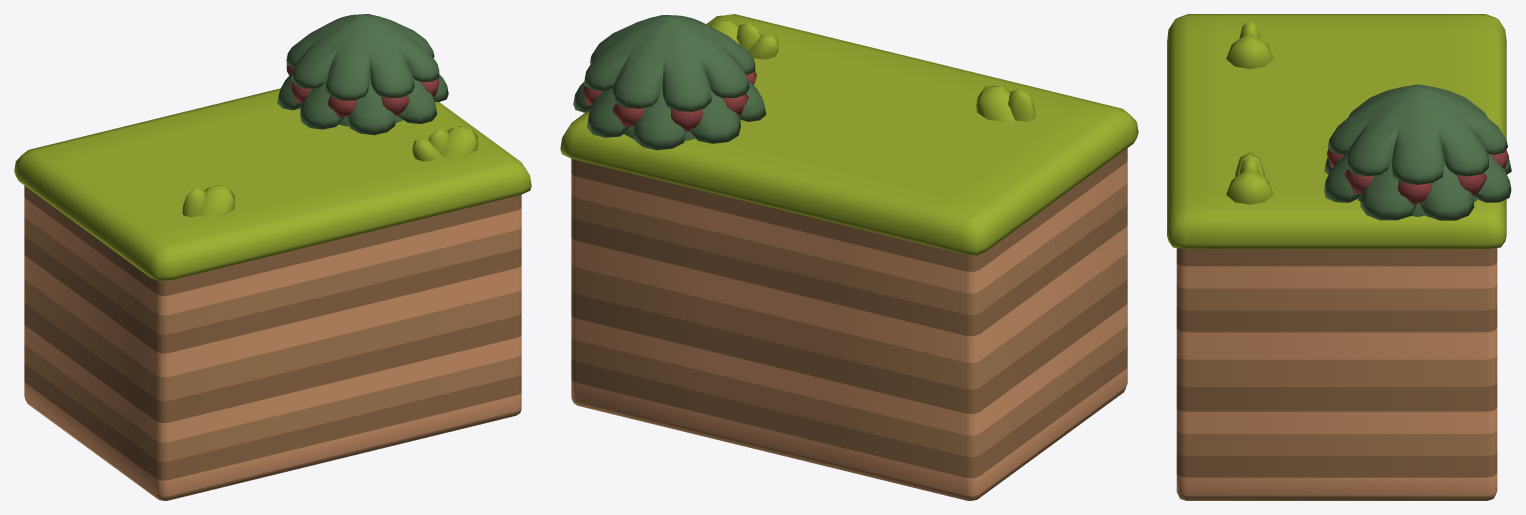
Rendered from tile_4.glb.
The picture shows the model from 3 angles, left to right: view 1: azimuth 30°, elevation 25°; view 2: azimuth 150°, elevation 25°; view 3: azimuth 270°, elevation 25°; orthographic projection. The views are drawn at different scales.
Visible parts, largest first — view 1: Cube_Grass_Side_Tall.015, Bush_Fruit.002, Grass_3.009, Grass_3.010; view 2: Cube_Grass_Side_Tall.015, Bush_Fruit.002, Grass_3.010, Grass_3.009; view 3: Cube_Grass_Side_Tall.015, Bush_Fruit.002, Grass_3.009, Grass_3.010.
Part boxes in pixels (x1,y1,x2,y2): Cube_Grass_Side_Tall.015: [14, 88, 531, 500]; Bush_Fruit.002: [277, 14, 448, 135]; Grass_3.009: [412, 126, 478, 161]; Grass_3.010: [182, 185, 235, 217]; Cube_Grass_Side_Tall.015: [560, 14, 1138, 500]; Bush_Fruit.002: [573, 15, 766, 150]; Grass_3.010: [976, 86, 1035, 122]; Grass_3.009: [710, 20, 778, 59]; Cube_Grass_Side_Tall.015: [1167, 14, 1506, 500]; Bush_Fruit.002: [1324, 84, 1511, 220]; Grass_3.009: [1226, 152, 1273, 204]; Grass_3.010: [1226, 21, 1273, 68].
Size of the model in its own units: 6.35 by 5.31 by 4.3.
